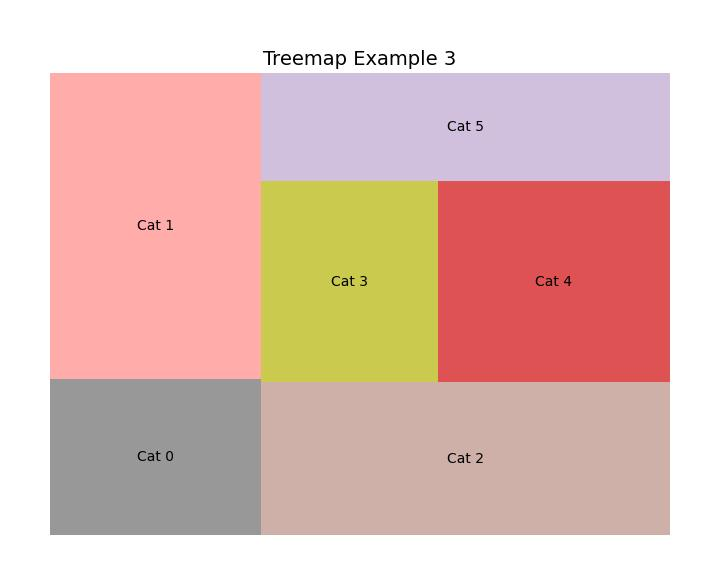rectangle: (49, 71, 259, 386), (257, 382, 671, 537), (443, 178, 669, 381), (260, 75, 670, 182), (262, 180, 440, 381), (51, 381, 263, 538)
